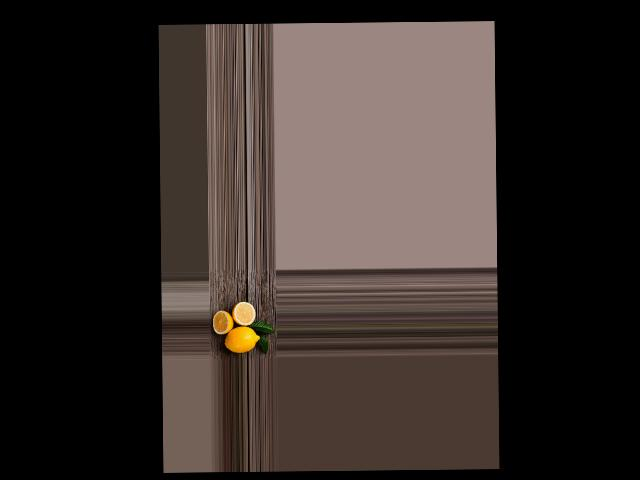lemon: (224, 324, 262, 351)
